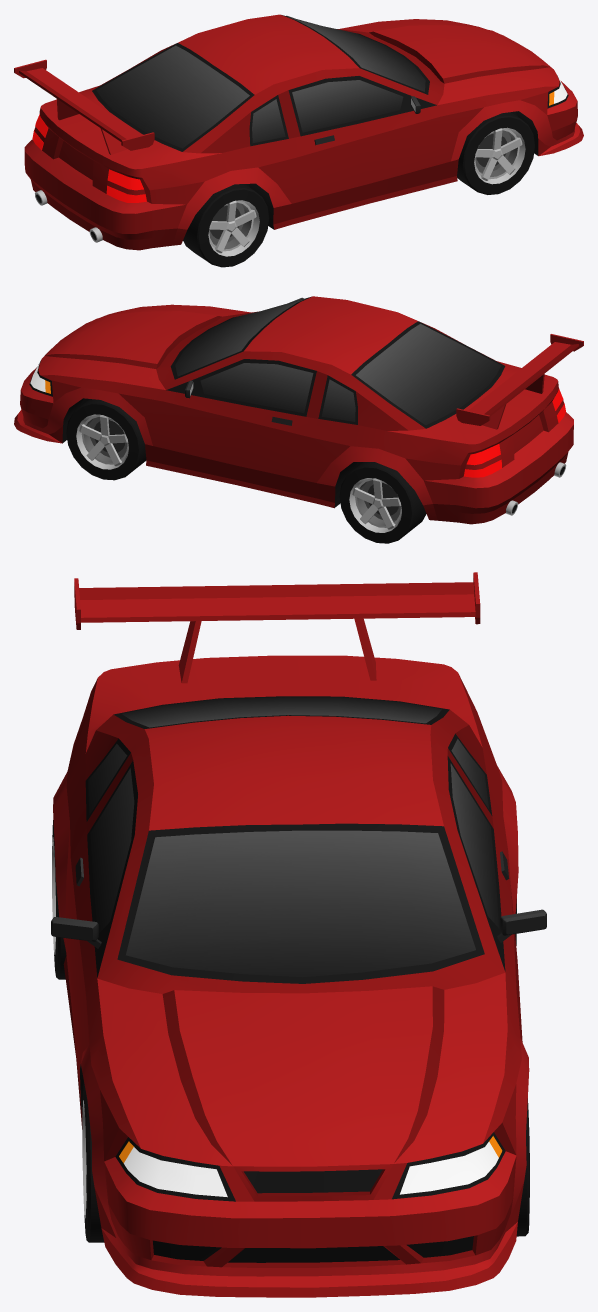
Rendered from RaceCar_065.glb.
3 renders of one model, top to bottom at view 1: azimuth 30°, elevation 25°; view 2: azimuth 150°, elevation 25°; view 3: azimuth 270°, elevation 25°, orthographic. The views are drawn at different scales.
Parts seen in each view (by area): view 1: RaceCar_065, wheel_3_RaceCar_065_Wheel_2R, wheel_1_RaceCar_065_Wheel_1R; view 2: RaceCar_065, wheel_2_RaceCar_065_Wheel_2L, wheel_0_RaceCar_065_Wheel_1L; view 3: RaceCar_065, wheel_1_RaceCar_065_Wheel_1R.
Boxes of the visible parts, box(x1,y1,x2,y2) form: RaceCar_065: box(14, 14, 583, 250); wheel_3_RaceCar_065_Wheel_2R: box(183, 184, 269, 267); wheel_1_RaceCar_065_Wheel_1R: box(457, 112, 534, 194); RaceCar_065: box(14, 296, 583, 524); wheel_2_RaceCar_065_Wheel_2L: box(339, 462, 426, 543); wheel_0_RaceCar_065_Wheel_1L: box(66, 399, 146, 480); RaceCar_065: box(51, 572, 546, 1297); wheel_1_RaceCar_065_Wheel_1R: box(82, 1080, 104, 1242).
Bounding box in the file's own units: 4.71 × 1.39 × 2.06.
2 materials, 2 textured.
